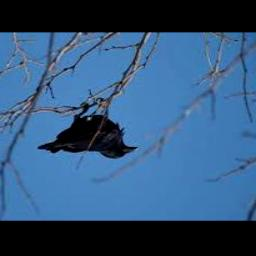Crow: (39, 103, 140, 160)
